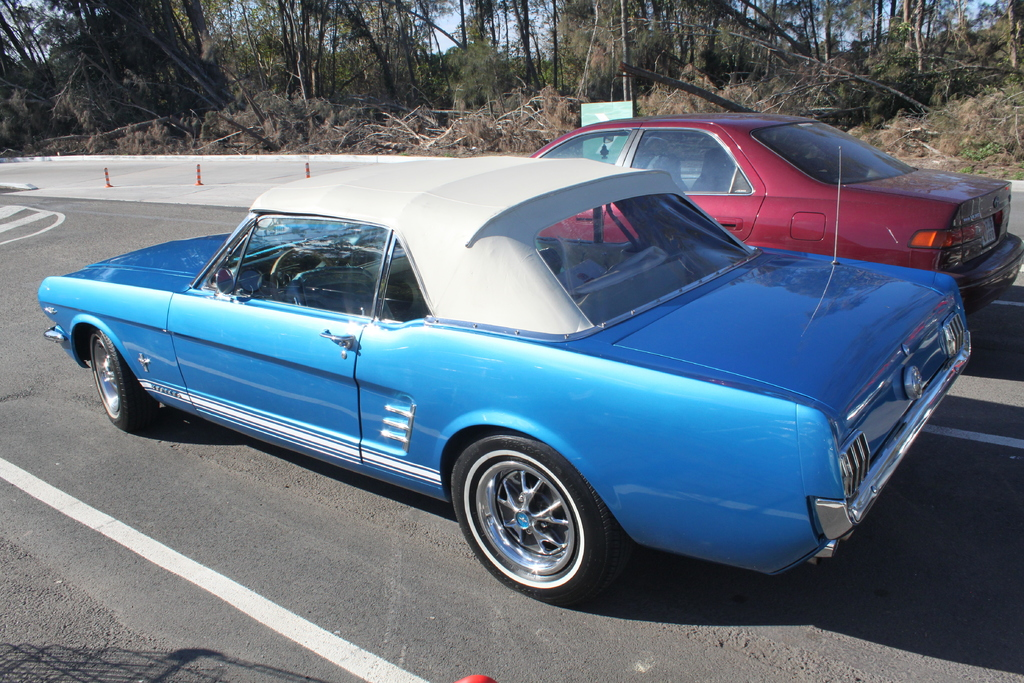Car: (16, 151, 977, 617), (514, 112, 1023, 333)
